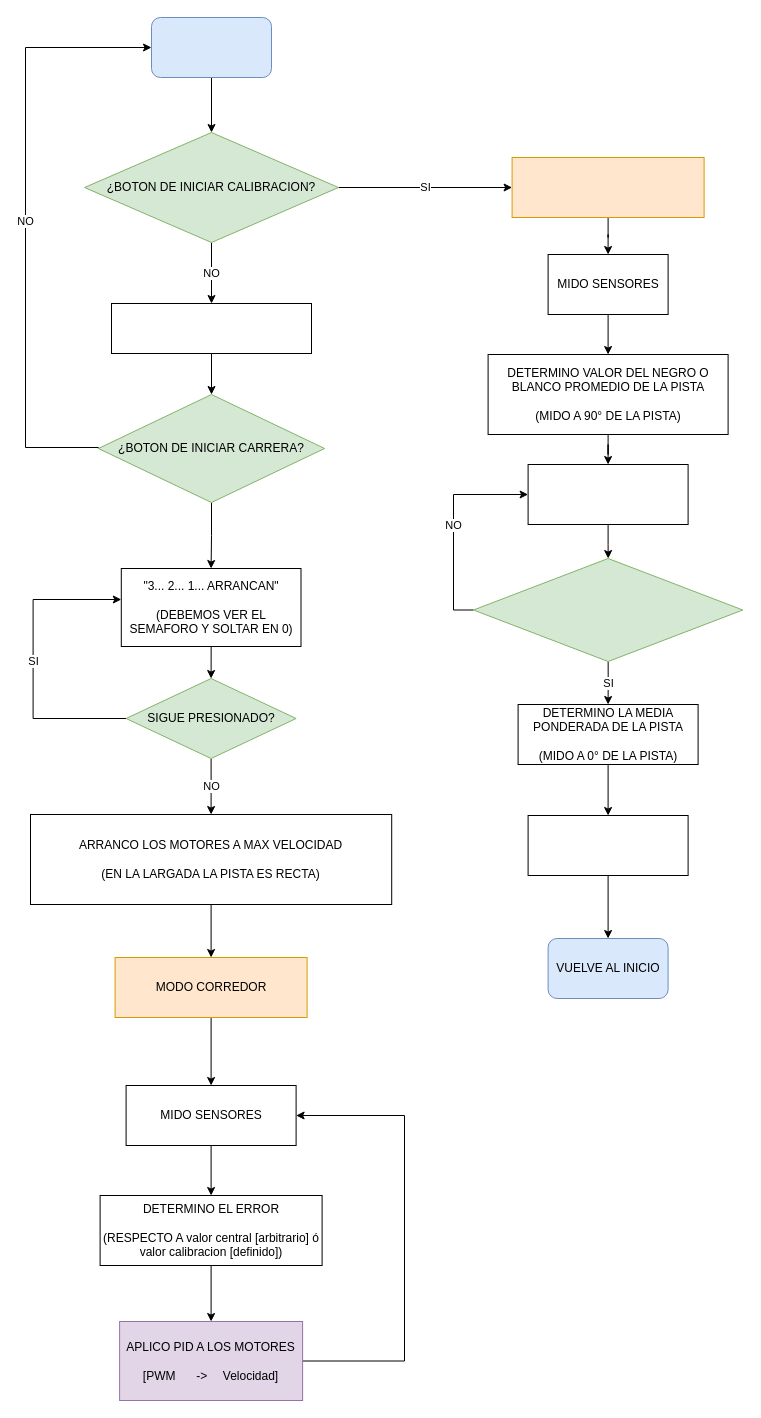
This 761x1418 diagram has some shape labels left out. The shapes that lost their labels are listed below. From the top down, each one's centre as x and y in pixels, then its label:
At (211,47): "INICIO".
At (607,187): "MODO CALIBRACION".
At (211,328): "ESPERO CONFIRMACION DE INICIAR CARRERA".
At (607,494): "CONFIRMACION HECHA (AVISO CON EL LED [pulsos] o SONIDO )".
At (607,610): "YA PASARON n PULSOS o t TIEMPO?".
At (607,845): "CONFIRMACION HECHA (AVISO CON EL LED [encendido] o SONIDO)".
